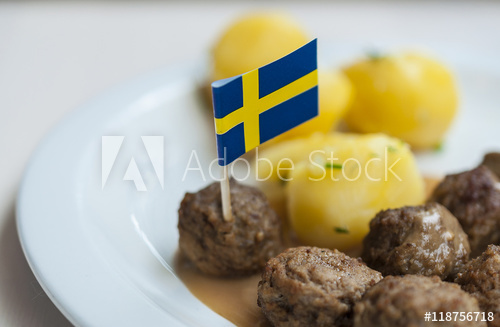boiled potatoes: (292, 136, 420, 254), (346, 49, 463, 142)
meatballs: (191, 178, 483, 327)
